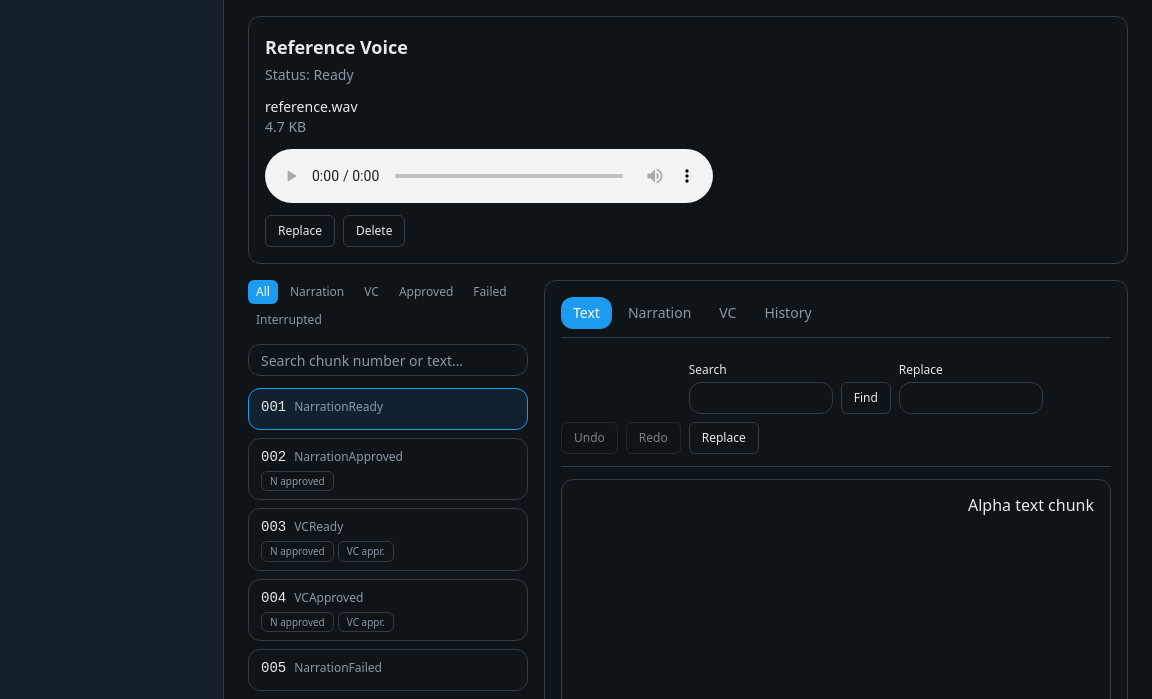
Test: E8.1-C Part Workspace › 3. search filters chunks
This screenshot has width=1152, height=699.
(page scrolled)
Type "Gamma" into the field with test id "chunk-search" at (388, 360), box [248,344,528,376]
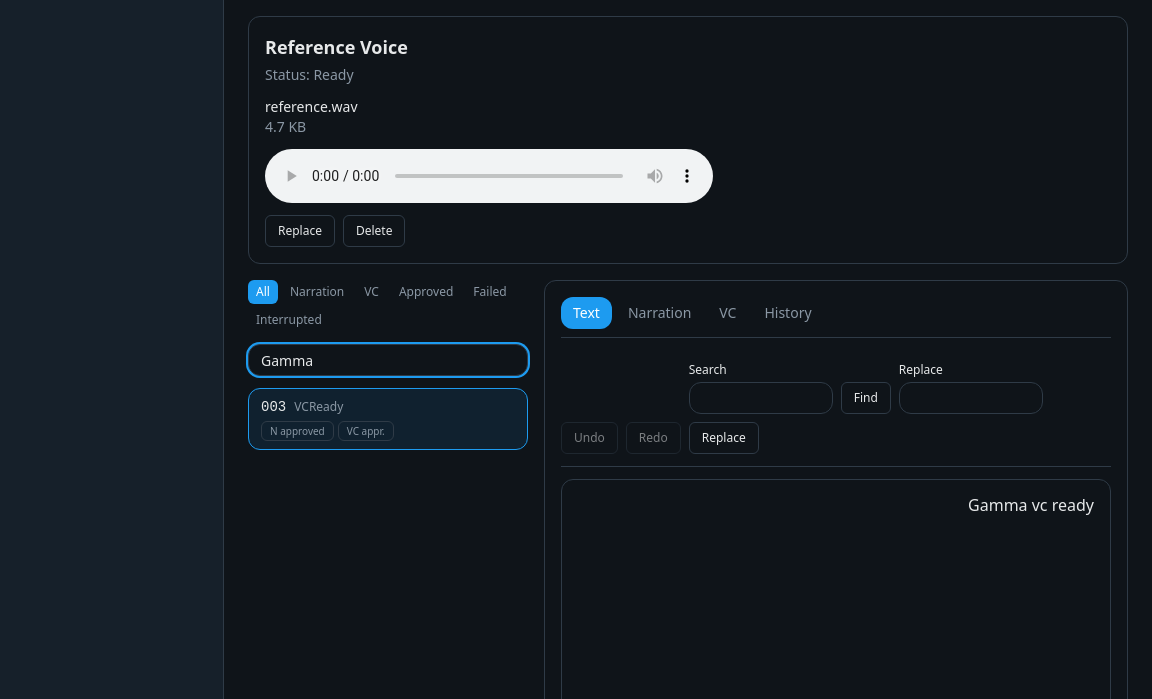
expect the button with test id "chunk-row-3" is shown: met, box [248,388,528,450]
expect the button with test id "chunk-row-1" is gone: met
